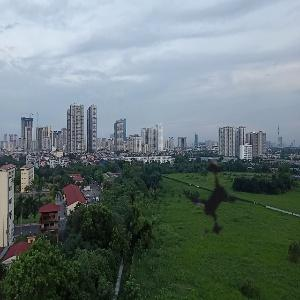drone: (142, 129, 287, 274)
